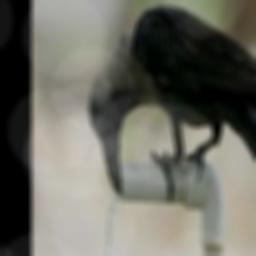Crow: (88, 4, 256, 218)
